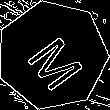M_NE: (18, 22, 87, 89)
